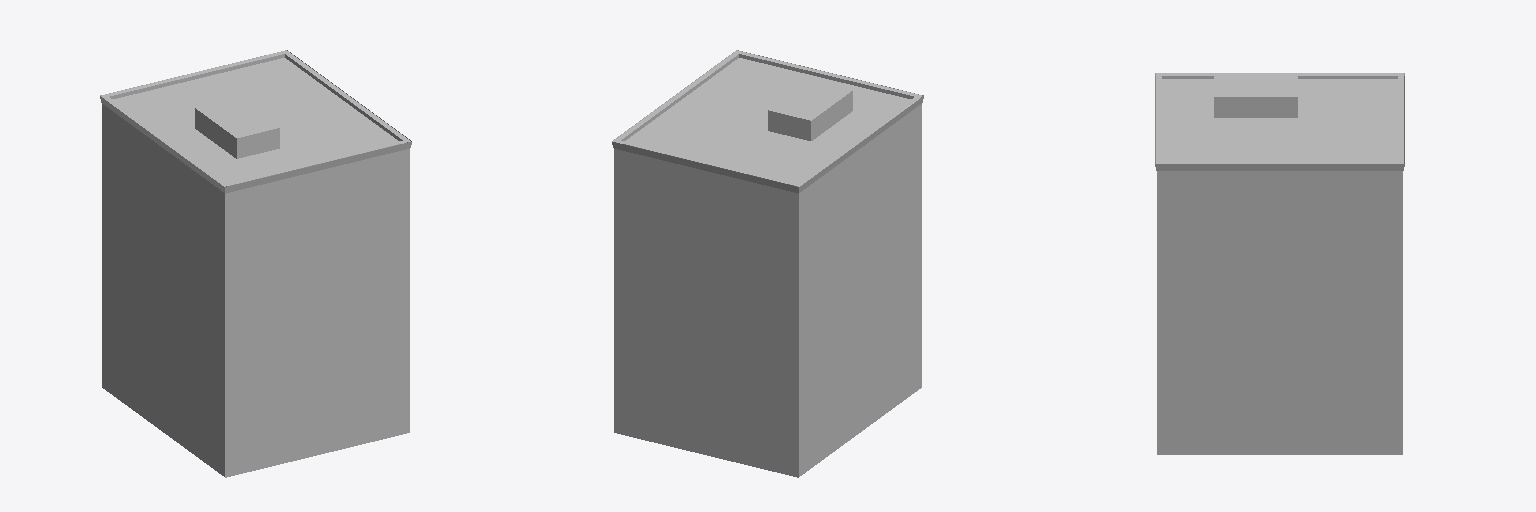
The model's file is building_23.obj.
3 views of the same model, side by side, from view 1: azimuth 30°, elevation 25°; view 2: azimuth 150°, elevation 25°; view 3: azimuth 270°, elevation 25° (orthographic).
Visible parts, largest first — view 1: BakedBuilding_320; view 2: BakedBuilding_320; view 3: BakedBuilding_320.
Part boxes in pixels (left/top/right/bottom): BakedBuilding_320: left=100, top=50, right=411, bottom=477; BakedBuilding_320: left=612, top=50, right=923, bottom=477; BakedBuilding_320: left=1155, top=73, right=1404, bottom=454.
Size of the model in its own units: 59.05 by 92.87 by 68.2.